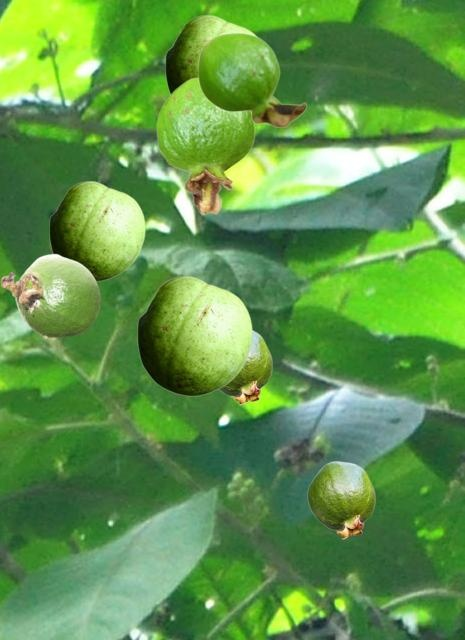guava: (137, 276, 251, 395), (156, 77, 254, 214), (197, 32, 306, 127), (49, 181, 144, 280), (0, 253, 100, 337), (165, 15, 255, 93), (307, 461, 374, 538), (219, 329, 271, 404)
